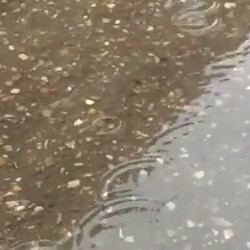drop: (78, 196, 163, 250), (97, 155, 165, 204), (144, 122, 196, 163), (2, 233, 63, 250), (175, 13, 219, 33), (91, 115, 122, 136), (164, 1, 216, 12), (34, 5, 58, 22), (1, 193, 21, 213)
